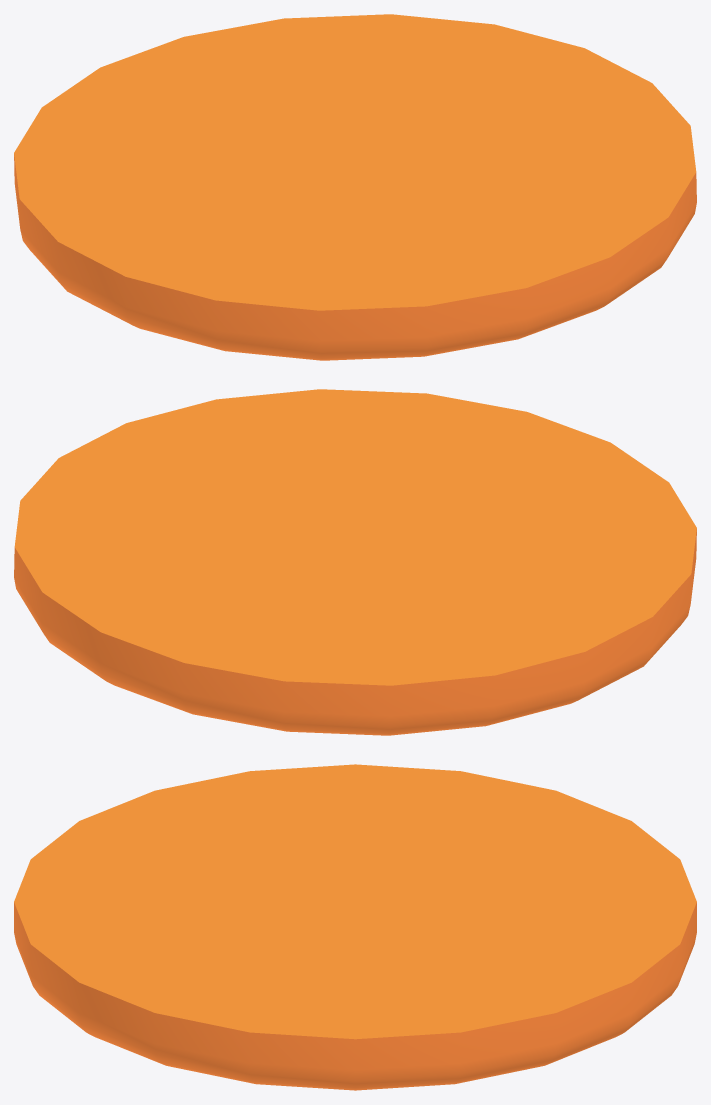
File: Bun_Slice_Bot_Bun_0.glb
The picture shows the model from 3 angles, top to bottom: view 1: azimuth 30°, elevation 25°; view 2: azimuth 150°, elevation 25°; view 3: azimuth 270°, elevation 25°; orthographic projection.
Parts seen in each view (by area): view 1: Bun_Slice_Bot_Bun_0; view 2: Bun_Slice_Bot_Bun_0; view 3: Bun_Slice_Bot_Bun_0.
Boxes of the visible parts, left/top/right/bottom form: Bun_Slice_Bot_Bun_0: left=14, top=14, right=696, bottom=360; Bun_Slice_Bot_Bun_0: left=14, top=389, right=696, bottom=735; Bun_Slice_Bot_Bun_0: left=14, top=764, right=696, bottom=1090.
Size of the model in its own units: 2.04 by 0.2431 by 2.04.
Materials: 1 (1 with a texture image).
